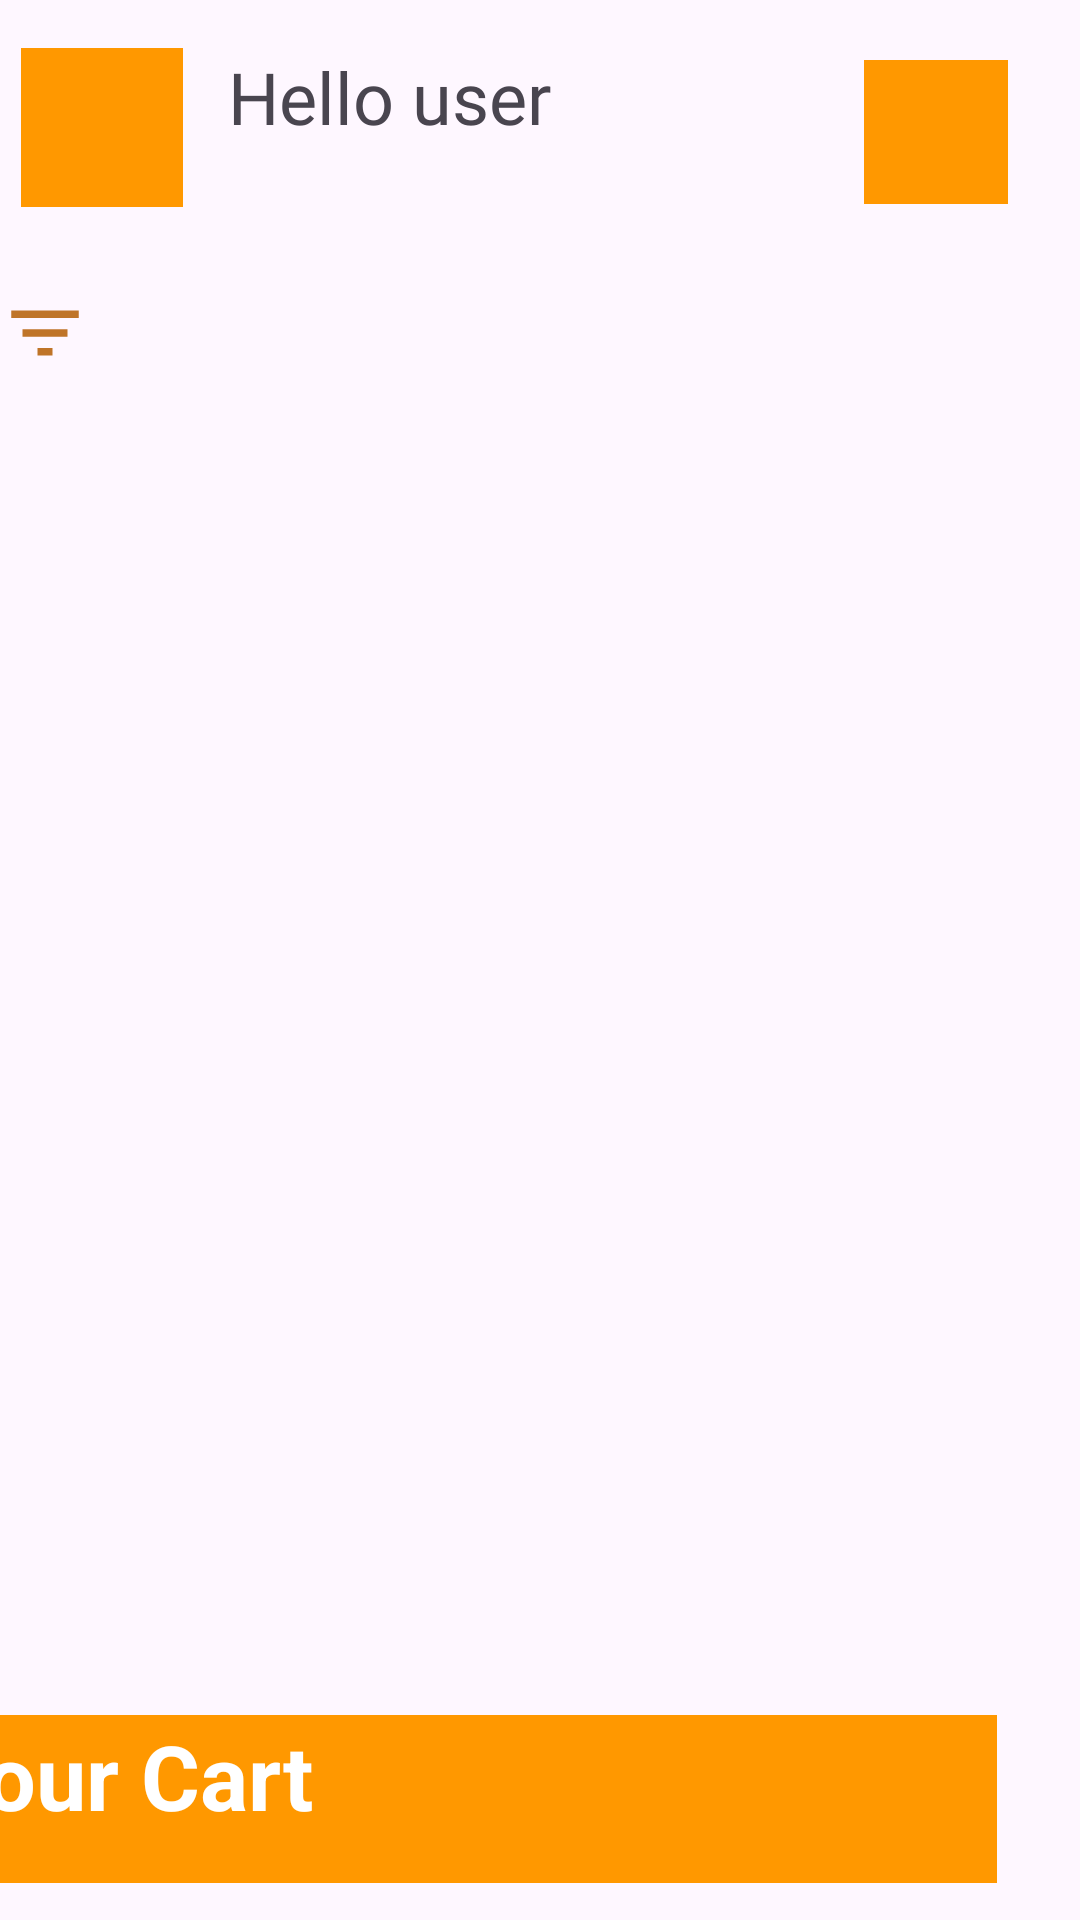

Icon bounding boxes for this 1080px×1920px phone screenshot, format [x1=x1, y1=y1, x2=x2, y2=y2]:
filter list: [x1=11, y1=310, x2=79, y2=356]
